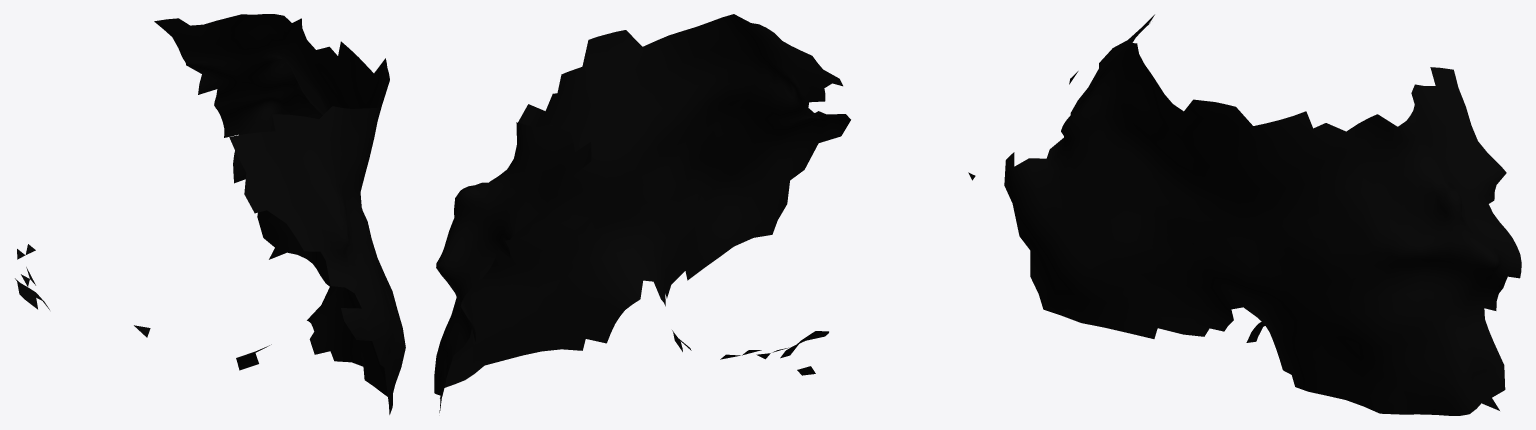
The model's file is CaderaFront.obj.
The picture shows the model from 3 angles, left to right: view 1: azimuth 30°, elevation 25°; view 2: azimuth 150°, elevation 25°; view 3: azimuth 270°, elevation 25°; orthographic projection. The views are drawn at different scales.
Visible parts, largest first — view 1: CaderaFront; view 2: CaderaFront; view 3: CaderaFront.
Part boxes in pixels (x1=…): CaderaFront: x1=15, y1=14, x2=405, y2=414; CaderaFront: x1=434, y1=14, x2=975, y2=412; CaderaFront: x1=1004, y1=14, x2=1521, y2=415.
Bounding box in the file's own units: 0.7454 × 0.6051 × 0.9178.
Materials: 1 (1 with a texture image).
